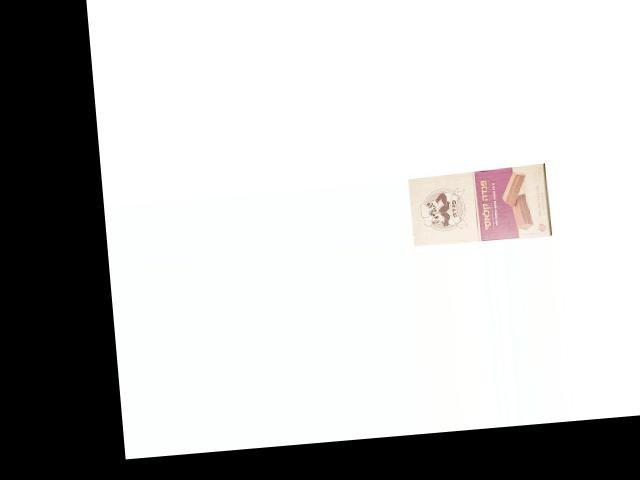chocolate: (407, 161, 552, 245)
